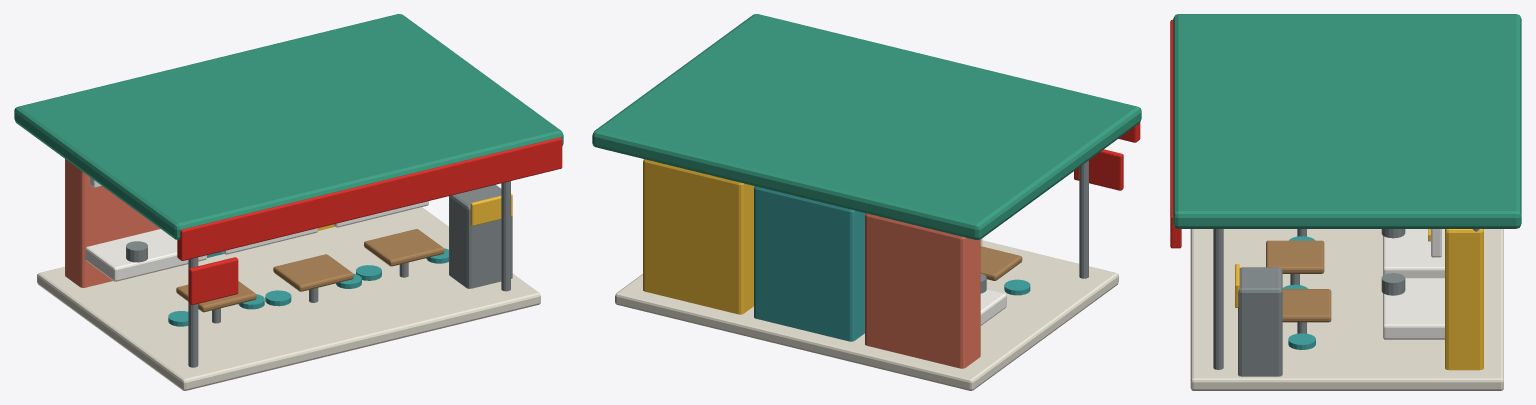
Rendered from kopitiam.glb.
3 renders of one model, left to right at view 1: azimuth 30°, elevation 25°; view 2: azimuth 150°, elevation 25°; view 3: azimuth 270°, elevation 25°, orthographic. The views are drawn at different scales.
Visible parts, largest first — view 1: Roof, Floor slab, Roof fascia, Stall back, Tray return, Stall counter, Singtel hotspot sign, Table.001, Table.002, Pavilion post.002, Table, Pavilion post (+3 smaller); view 2: Roof, Floor slab, Stall back, Stall back.002, Stall back.001, Singtel hotspot sign, Pavilion post, Table, Stall counter; view 3: Roof, Floor slab, Stall back.002, Tray return, Stall counter.002, Stall counter.001, Table.001, Table.002, Pavilion post.002, Roof fascia, Stock pot.002, Stool.005 (+1 smaller).
Part boxes in pixels (x1,y1,x2,y2): Roof: (14,14,563,239); Floor slab: (37,207,540,390); Roof fascia: (177,137,562,260); Stall back: (65,159,160,287); Tray return: (449,184,512,288); Stall counter: (85,229,206,281); Singtel hotspot sign: (188,257,238,305); Table.001: (273,254,353,291); Table.002: (364,229,444,266); Pavilion post.002: (501,181,510,291); Table: (176,281,256,312); Pavilion post: (188,257,198,367); Roof: (592,14,1141,239); Floor slab: (615,240,1118,390); Stall back: (865,213,980,368); Stall back.002: (643,159,754,314); Stall back.001: (754,186,865,341); Singtel hotspot sign: (1074,149,1123,190); Pavilion post: (1079,160,1088,278); Table: (980,246,1022,280); Stall counter: (980,289,1006,325); Roof: (1173,14,1521,228); Floor slab: (1190,229,1503,390); Stall back.002: (1445,229,1483,370); Tray return: (1238,267,1282,376); Stall counter.002: (1383,278,1444,339); Stall counter.001: (1383,229,1444,277); Table.001: (1266,240,1324,273); Table.002: (1282,289,1331,322); Pavilion post.002: (1213,229,1223,369); Roof fascia: (1170,19,1181,248); Stock pot.002: (1381,273,1405,295); Stool.005: (1288,333,1315,349).
Size of the model in its own units: 6.84 by 2.96 by 5.04.
